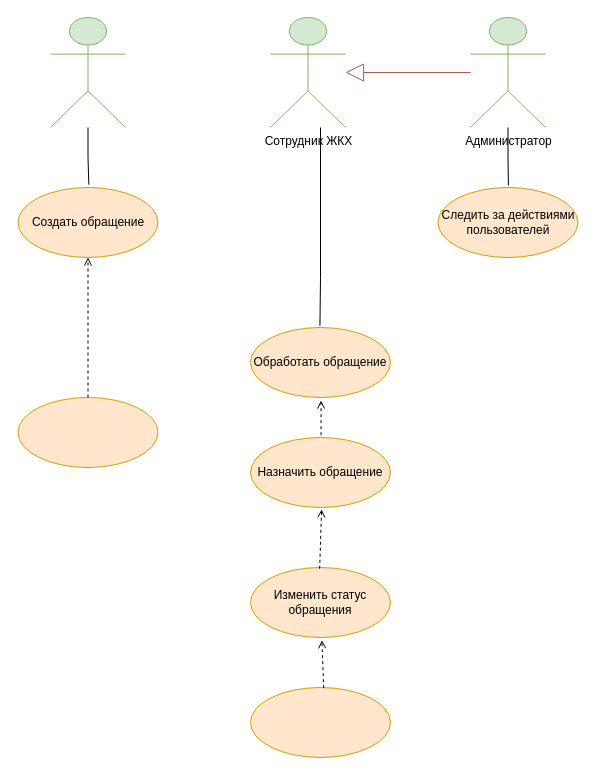
The diagram is 595 pixels wide and 775 high, and some of its shapes have lost their labels. Each missing label, with the centre of its shape:
"Гражданин" goes at point (88, 72).
"Закрыть обращение" goes at point (320, 722).
"Просмотреть статус обращения" goes at point (87, 432).
